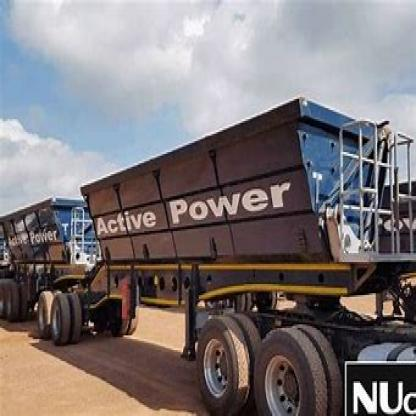dump_truck: (1, 103, 415, 414)
